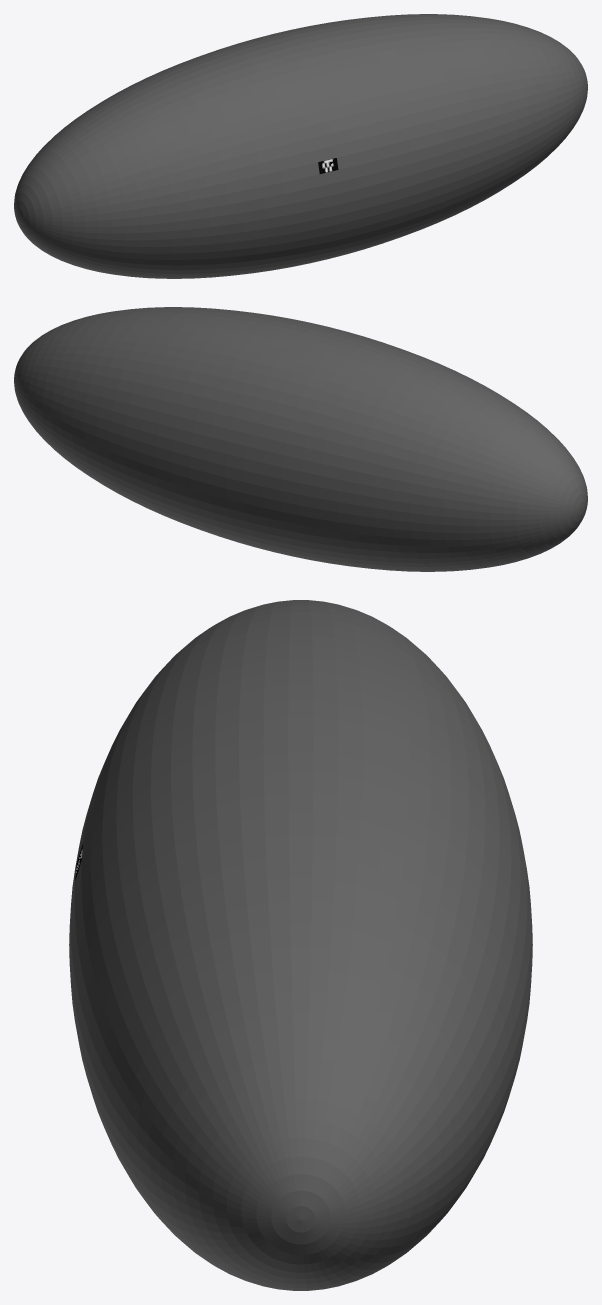
File: blimp_envelope4.dae
The picture shows the model from 3 angles, top to bottom: view 1: azimuth 30°, elevation 25°; view 2: azimuth 150°, elevation 25°; view 3: azimuth 270°, elevation 25°; orthographic projection. The views are drawn at different scales.
Parts seen in each view (by area): view 1: Envelope; view 2: Envelope; view 3: Envelope.
Part boxes in pixels (x1=…): Envelope: x1=14, y1=14, x2=587, y2=278; Envelope: x1=14, y1=307, x2=587, y2=571; Envelope: x1=69, y1=600, x2=532, y2=1290.
Size of the model in its own units: 2.8 by 1 by 0.9985.
Materials: 1 (1 with a texture image).
